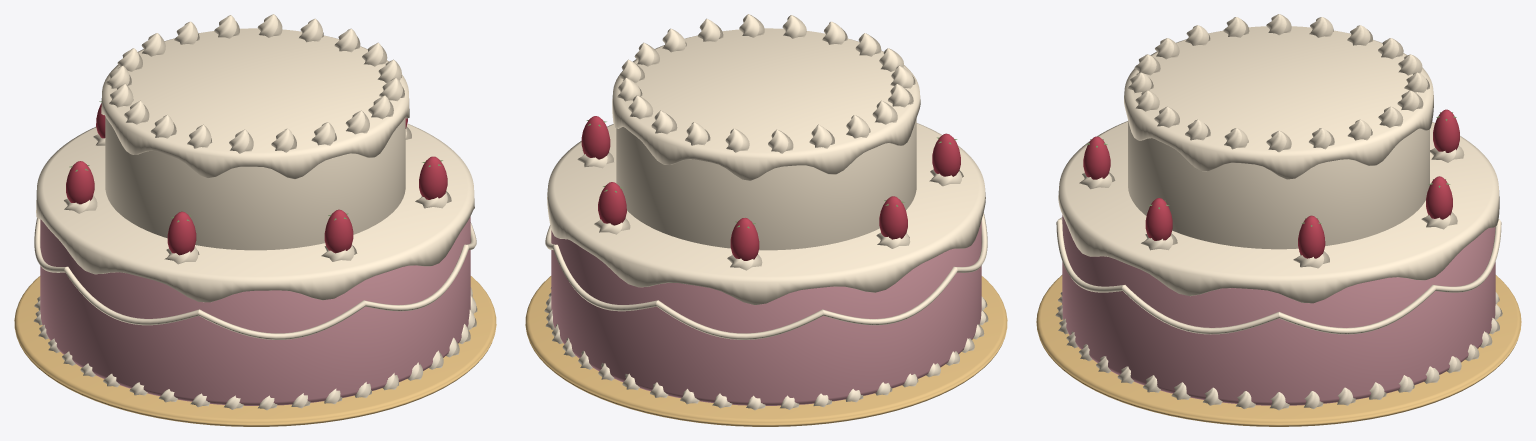
The model's file is birthday-cake.glb.
3 renders of one model, left to right at view 1: azimuth 30°, elevation 25°; view 2: azimuth 150°, elevation 25°; view 3: azimuth 270°, elevation 25°, orthographic.
Visible parts, largest first — view 1: Lower strawberry tier, Scalloped vanilla icing.001, Scalloped vanilla icing, Upper vanilla tier, Fine golden cake board, Draped buttercream garland.005, Draped buttercream garland.004, Strawberry.004, Strawberry.006, Strawberry.005, Strawberry.003, Draped buttercream garland.006 (+1 smaller); view 2: Lower strawberry tier, Scalloped vanilla icing.001, Scalloped vanilla icing, Upper vanilla tier, Fine golden cake board, Draped buttercream garland.002, Draped buttercream garland.003, Strawberry, Strawberry.003, Strawberry.002, Strawberry.004, Strawberry.001 (+2 smaller); view 3: Lower strawberry tier, Scalloped vanilla icing.001, Scalloped vanilla icing, Upper vanilla tier, Fine golden cake board, Draped buttercream garland, Draped buttercream garland.007, Strawberry.005, Strawberry, Strawberry.002, Strawberry.006, Strawberry.001 (+2 smaller).
Boxes of the visible parts, x1,y1,x2,y2 form: Lower strawberry tier: (40, 216, 470, 405); Scalloped vanilla icing.001: (101, 28, 409, 179); Scalloped vanilla icing: (36, 123, 474, 302); Upper vanilla tier: (105, 117, 405, 250); Fine golden cake board: (14, 276, 496, 426); Draped buttercream garland.005: (198, 300, 365, 339); Draped buttercream garland.004: (64, 267, 199, 325); Strawberry.004: (167, 211, 196, 255); Strawberry.006: (419, 156, 447, 199); Strawberry.005: (324, 209, 353, 253); Strawberry.003: (66, 161, 94, 204); Draped buttercream garland.006: (364, 244, 468, 311); Lower strawberry tier: (551, 221, 981, 405); Scalloped vanilla icing.001: (612, 28, 920, 180); Scalloped vanilla icing: (547, 123, 985, 305); Upper vanilla tier: (616, 118, 916, 250); Fine golden cake board: (525, 276, 1007, 426); Draped buttercream garland.002: (656, 300, 823, 339); Draped buttercream garland.003: (822, 267, 957, 325); Strawberry: (581, 116, 610, 159); Strawberry.003: (879, 196, 907, 239); Strawberry.002: (730, 218, 759, 260); Strawberry.004: (932, 133, 960, 176); Strawberry.001: (598, 182, 626, 225); Lower strawberry tier: (1062, 215, 1495, 405); Scalloped vanilla icing.001: (1124, 26, 1433, 179); Scalloped vanilla icing: (1058, 121, 1499, 303); Upper vanilla tier: (1128, 120, 1429, 249); Fine golden cake board: (1036, 275, 1521, 426); Draped buttercream garland: (1279, 285, 1436, 334); Draped buttercream garland.007: (1121, 285, 1278, 334); Strawberry.005: (1083, 136, 1110, 179); Strawberry: (1298, 215, 1325, 258); Strawberry.002: (1433, 109, 1459, 152); Strawberry.006: (1145, 198, 1172, 240); Strawberry.001: (1426, 176, 1452, 219).
Bounding box in the file's own units: 1.31 × 0.7605 × 1.31.
